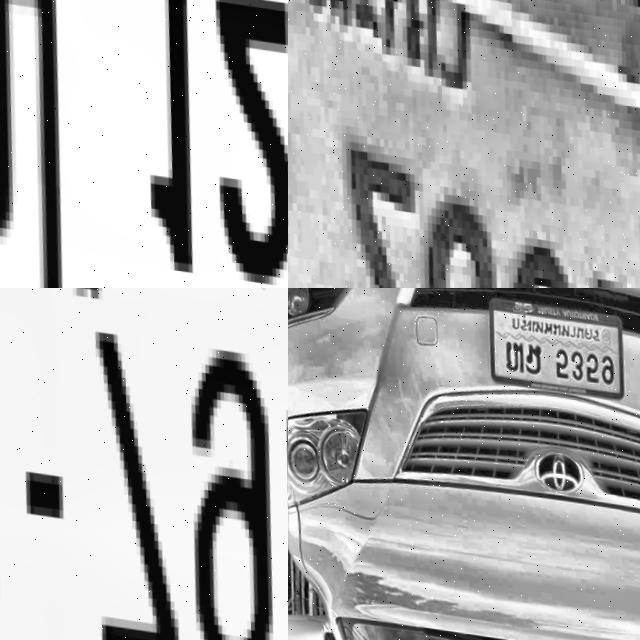license-plate: (288, 0, 640, 288), (0, 288, 288, 640), (0, 0, 288, 288), (483, 292, 628, 403)
